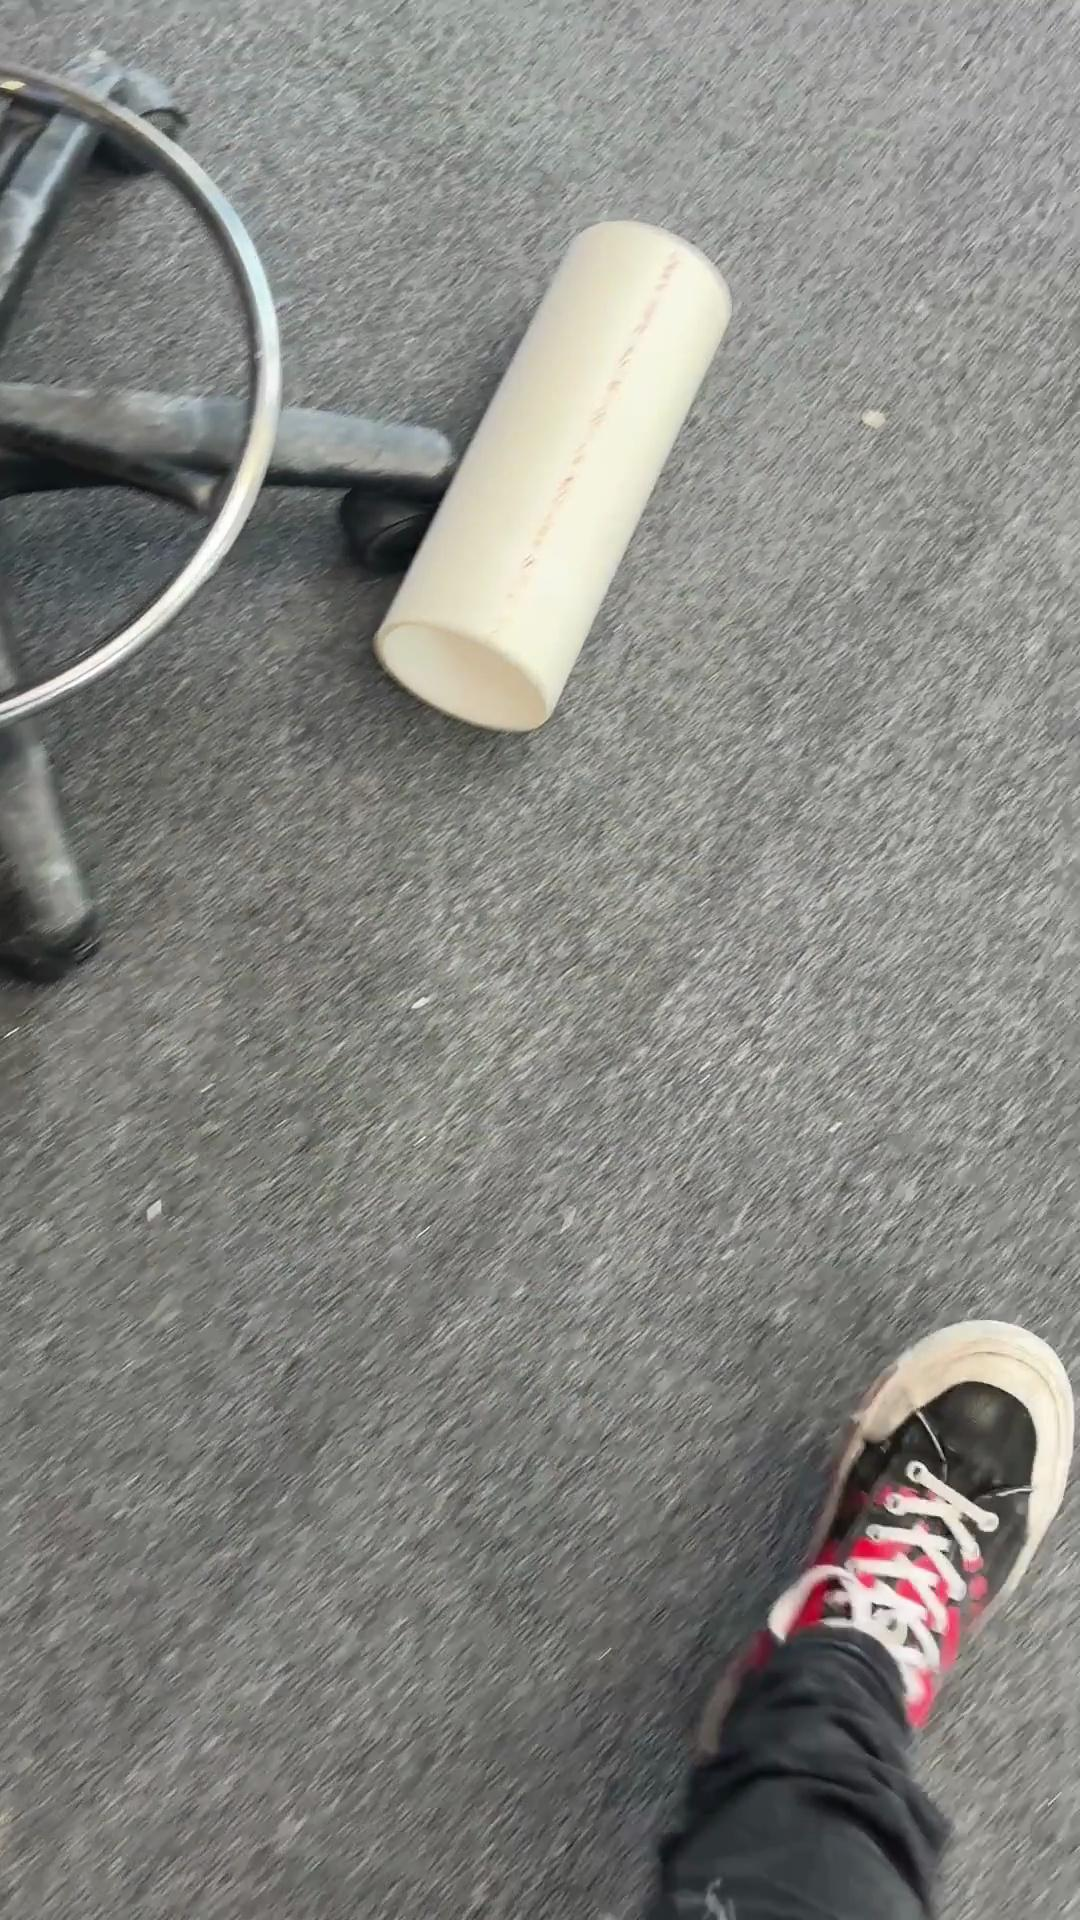CORAL: (369, 215, 733, 735)
